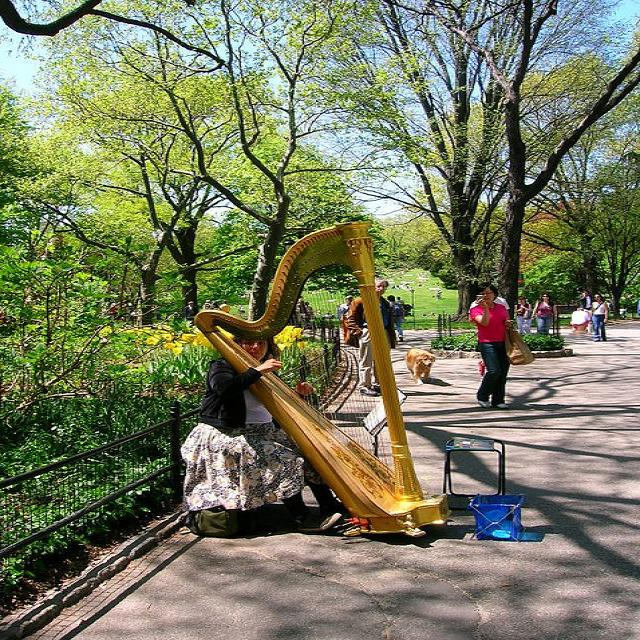harp: (192, 222, 451, 540)
